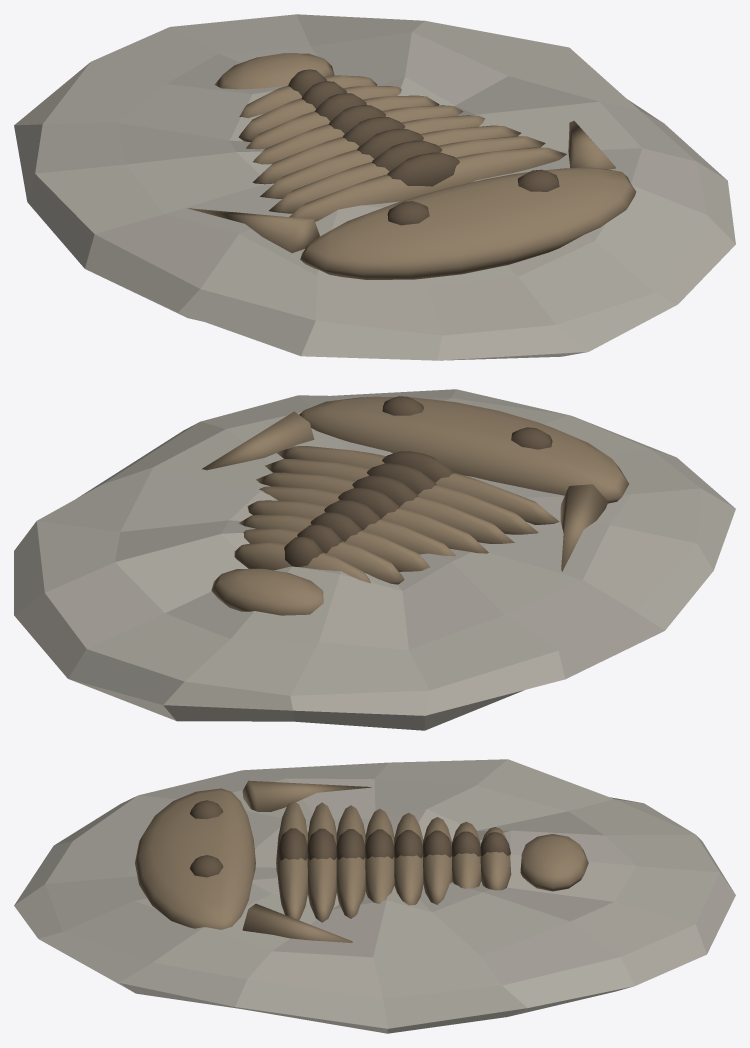
Rendered from fossil-trilobite.glb.
3 renders of one model, top to bottom at view 1: azimuth 30°, elevation 25°; view 2: azimuth 150°, elevation 25°; view 3: azimuth 270°, elevation 25°, orthographic. The views are drawn at different scales.
Parts seen in each view (by area): view 1: fossil; view 2: fossil; view 3: fossil.
Part boxes in pixels (box(x1,y1,x2,y2)): fossil: box(14, 14, 735, 360); fossil: box(14, 389, 735, 730); fossil: box(14, 759, 735, 1033).
Bounding box in the file's own units: 0.2796 × 0.0442 × 0.3407.
